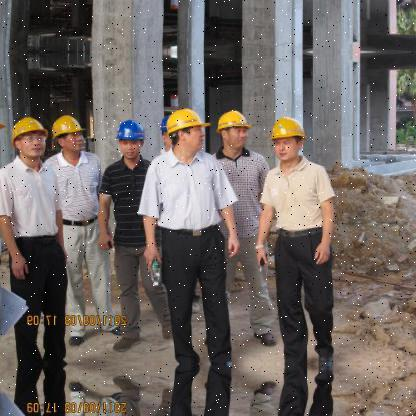helmet: (167, 107, 211, 158), (10, 110, 51, 162), (271, 113, 311, 166), (216, 107, 252, 152), (51, 114, 85, 157), (117, 115, 146, 163)
